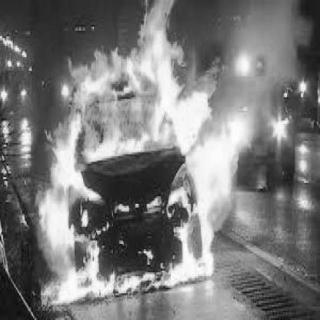Fire: (37, 0, 231, 303)
